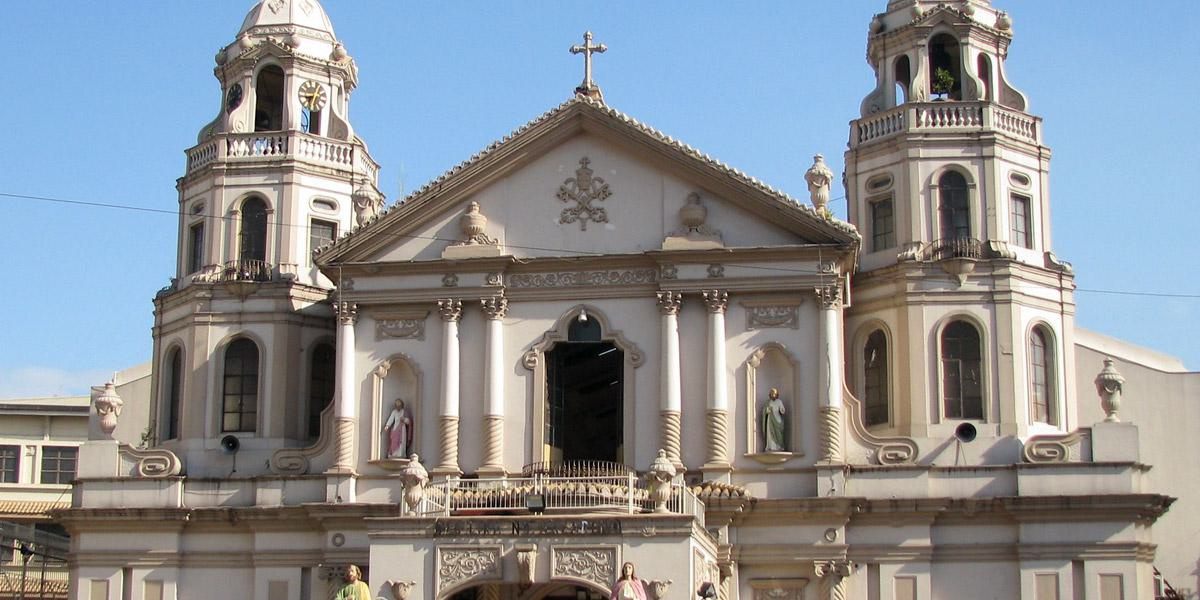quiapo_church_quiapo_manila: (1, 4, 1194, 600)
